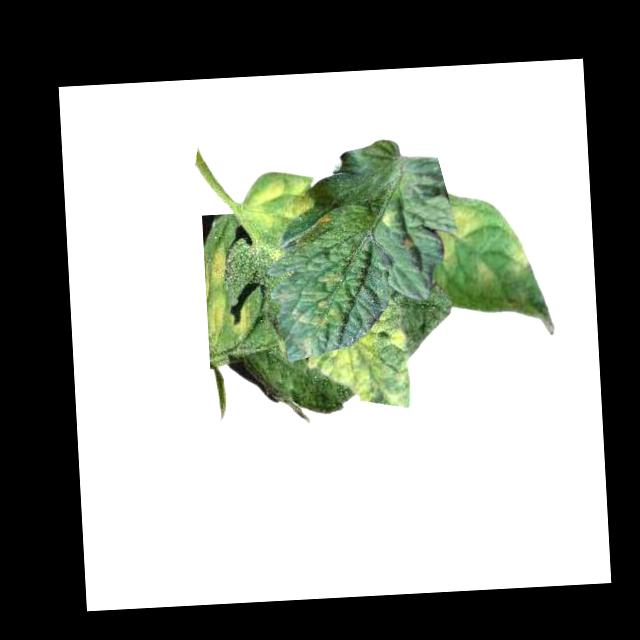Leaf_Mold: (300, 301, 411, 413), (240, 167, 317, 232), (432, 202, 485, 263), (292, 291, 344, 328), (501, 225, 531, 274), (204, 287, 229, 336), (204, 245, 231, 288), (472, 260, 498, 291), (228, 301, 251, 336), (315, 266, 347, 289), (378, 206, 397, 230), (315, 210, 335, 230)
